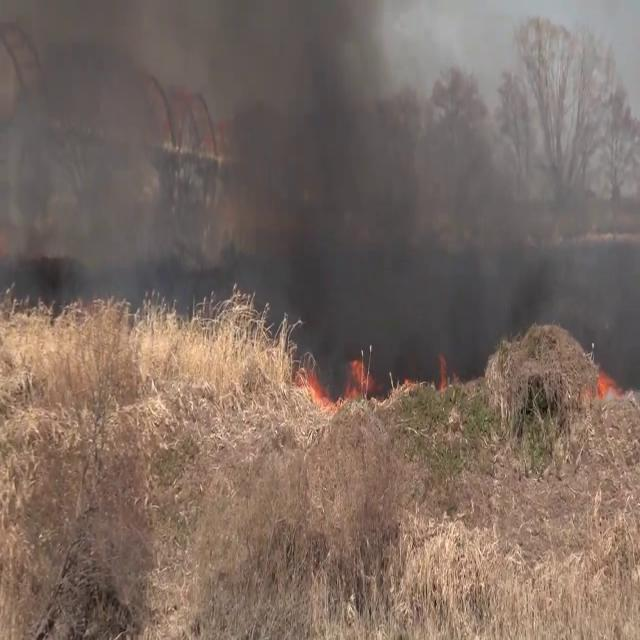Smoke: (1, 0, 636, 369)
